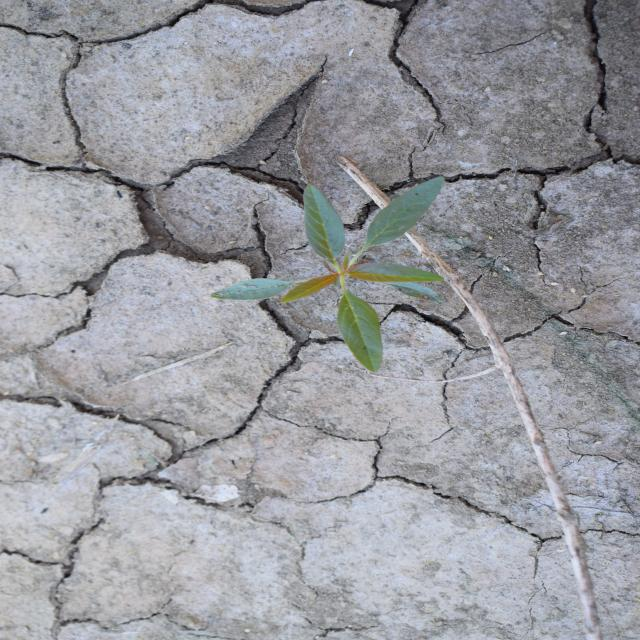Waterhemp: (205, 174, 449, 374)
